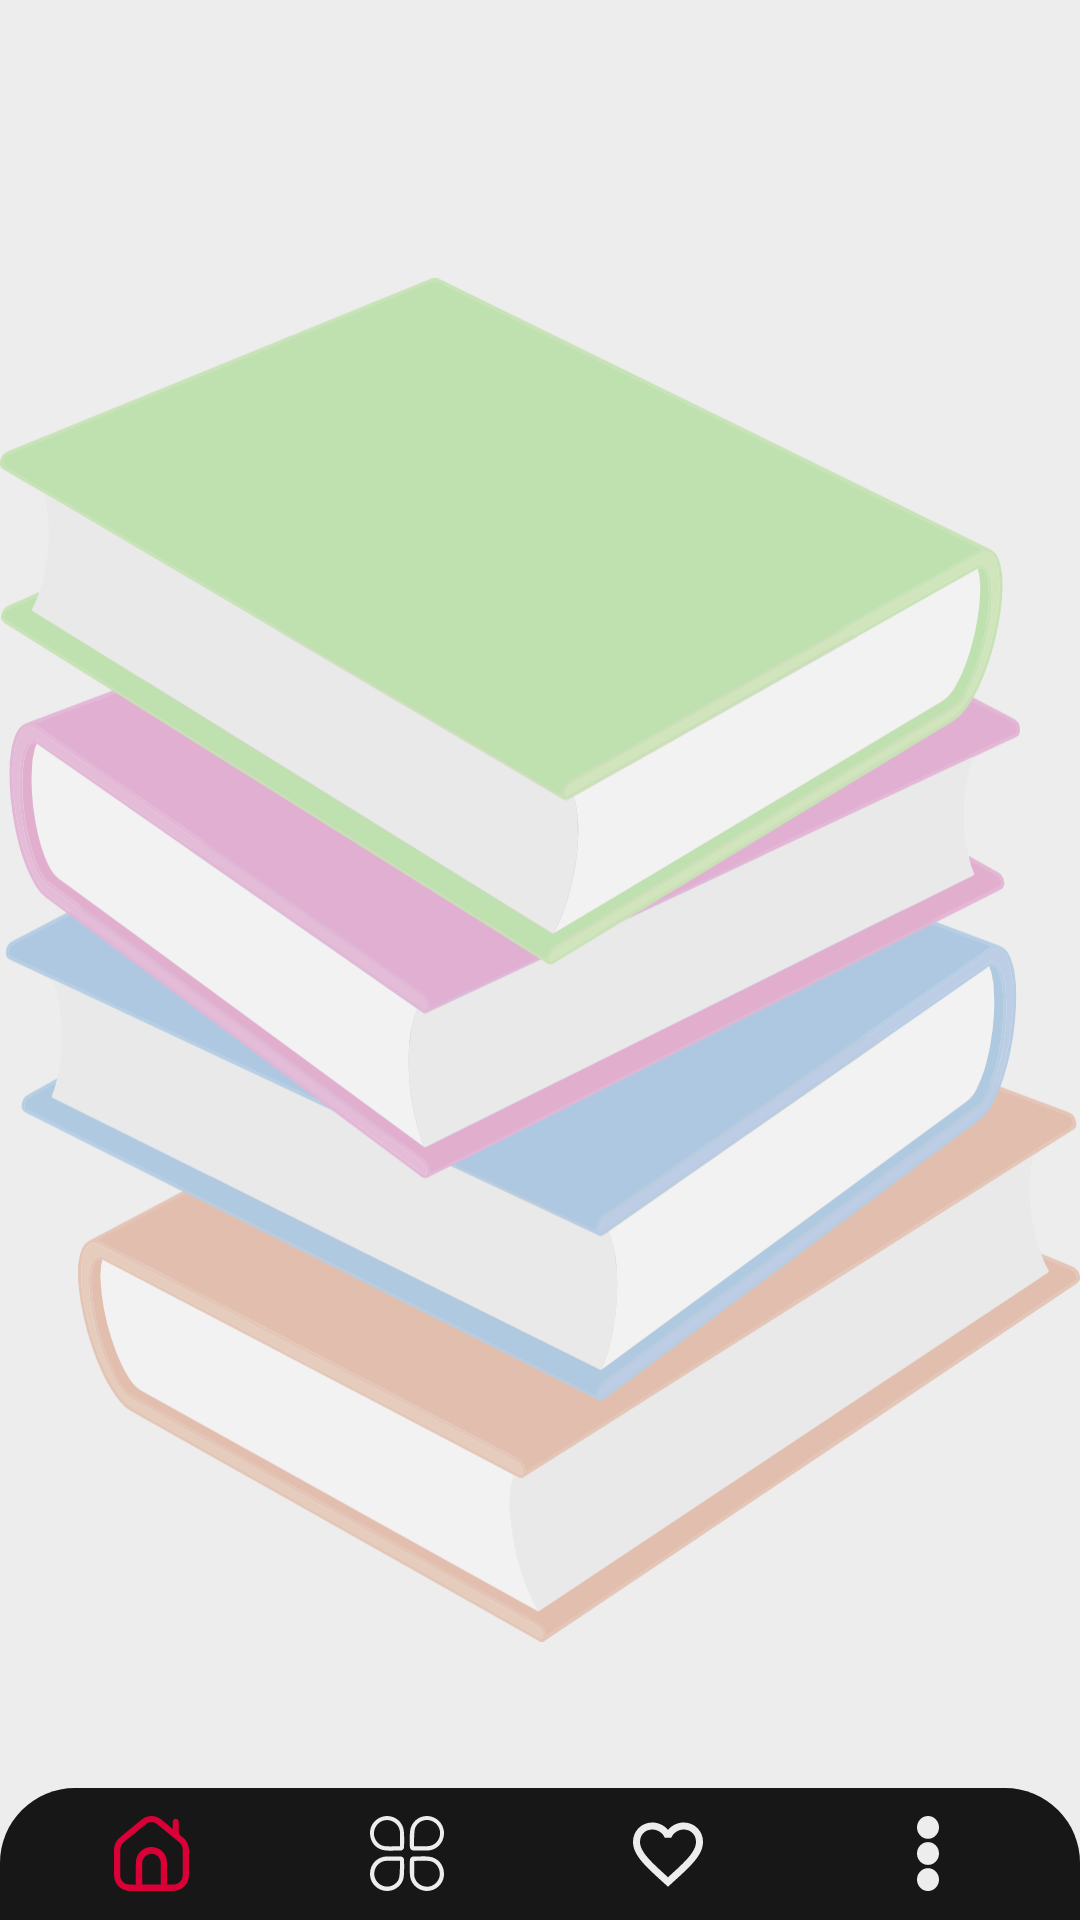

Icon click points for this 1080x1920 phone screenshot, format (x=x, y=y):
category: (x=407, y=1853)
choices: (x=928, y=1853)
favorite border: (x=668, y=1854)
home clicked: (x=151, y=1853)
